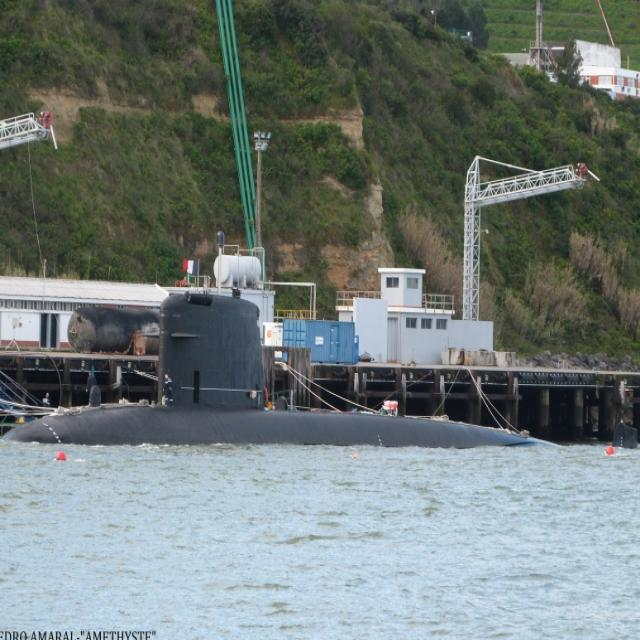submarine: (1, 298, 552, 443)
